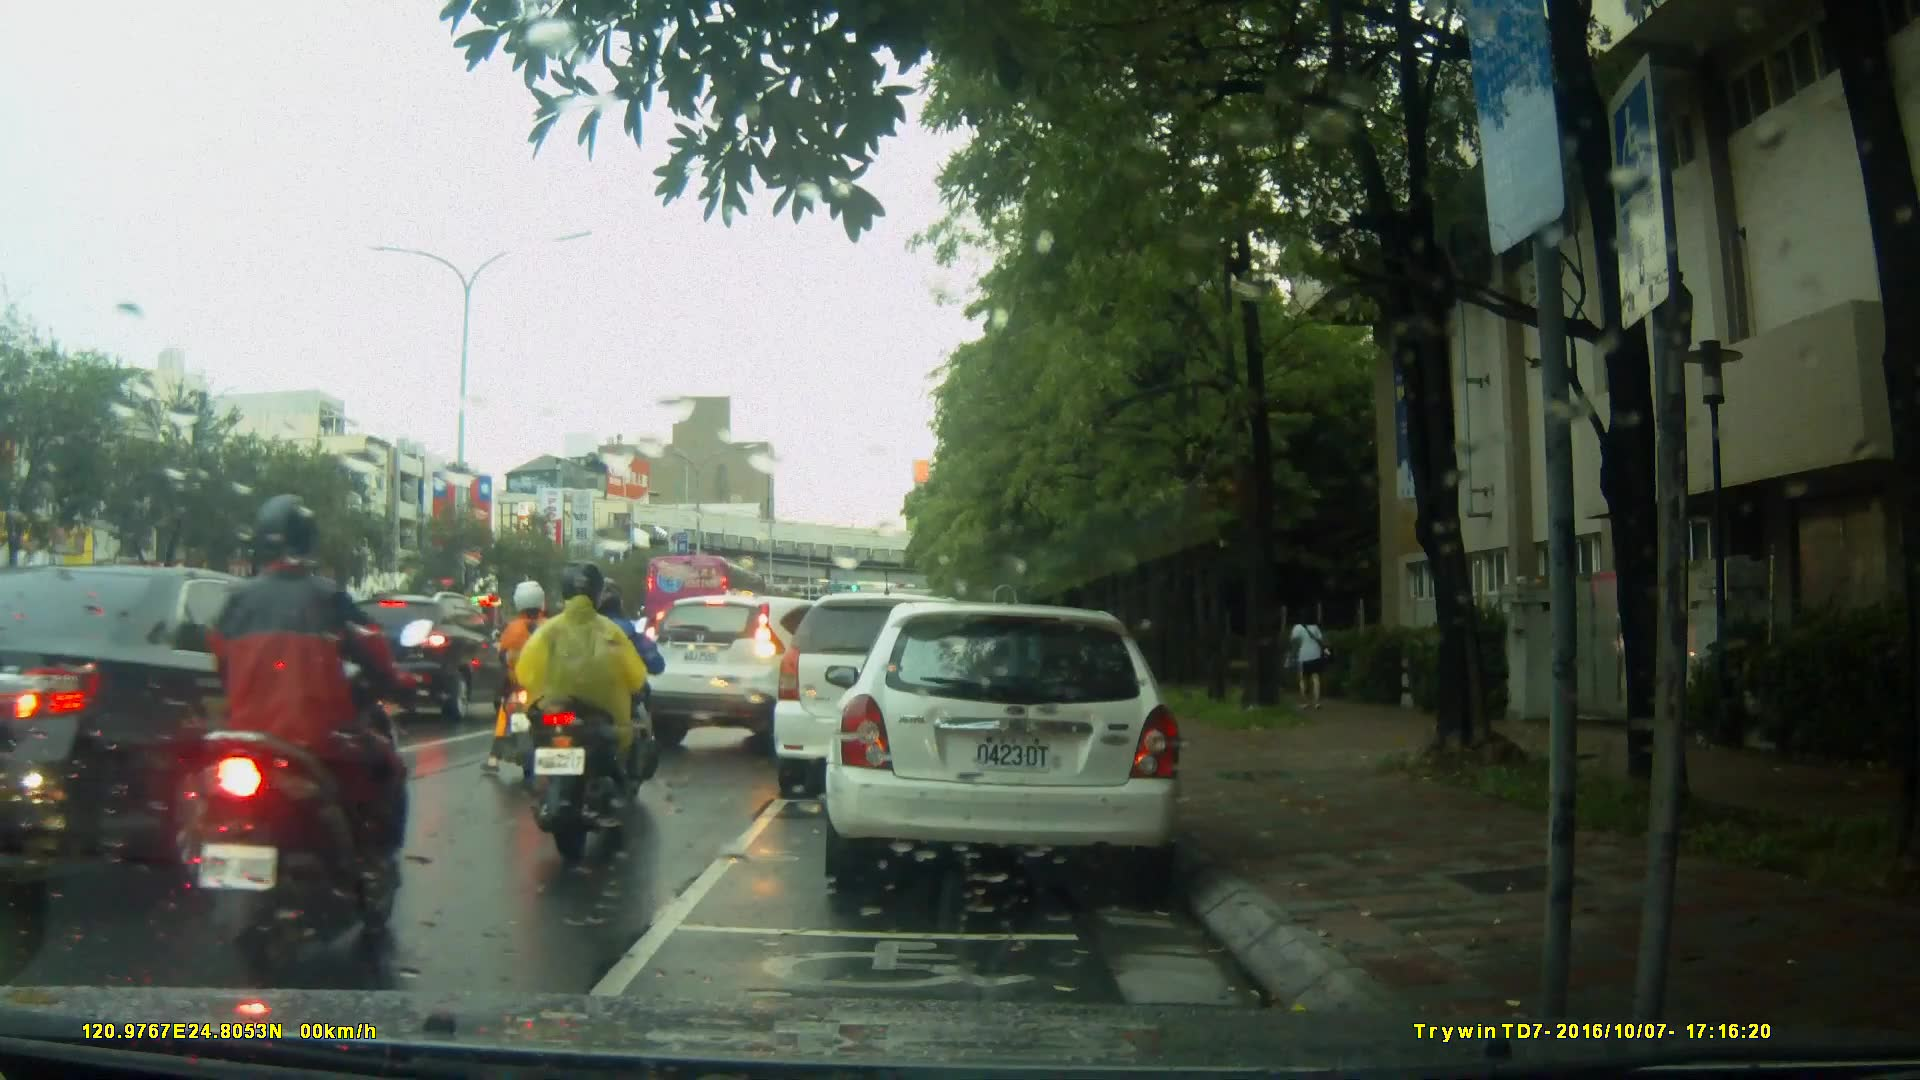pedestrian: (1283, 604, 1339, 720)
rider: (172, 503, 446, 973), (517, 569, 648, 855), (559, 572, 663, 815), (486, 580, 562, 791)
vehicle: (1, 560, 400, 898), (835, 594, 1194, 898), (776, 590, 1026, 784), (635, 589, 888, 757), (320, 590, 530, 723), (643, 552, 772, 640)
